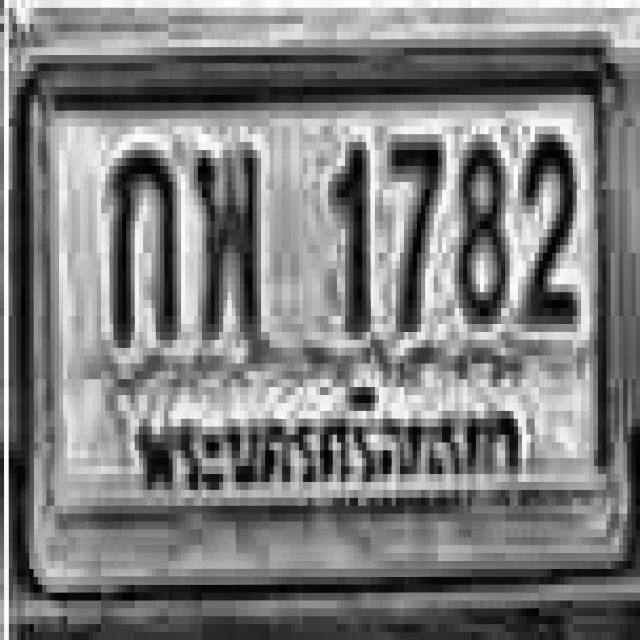license-plate: (26, 36, 630, 595)
